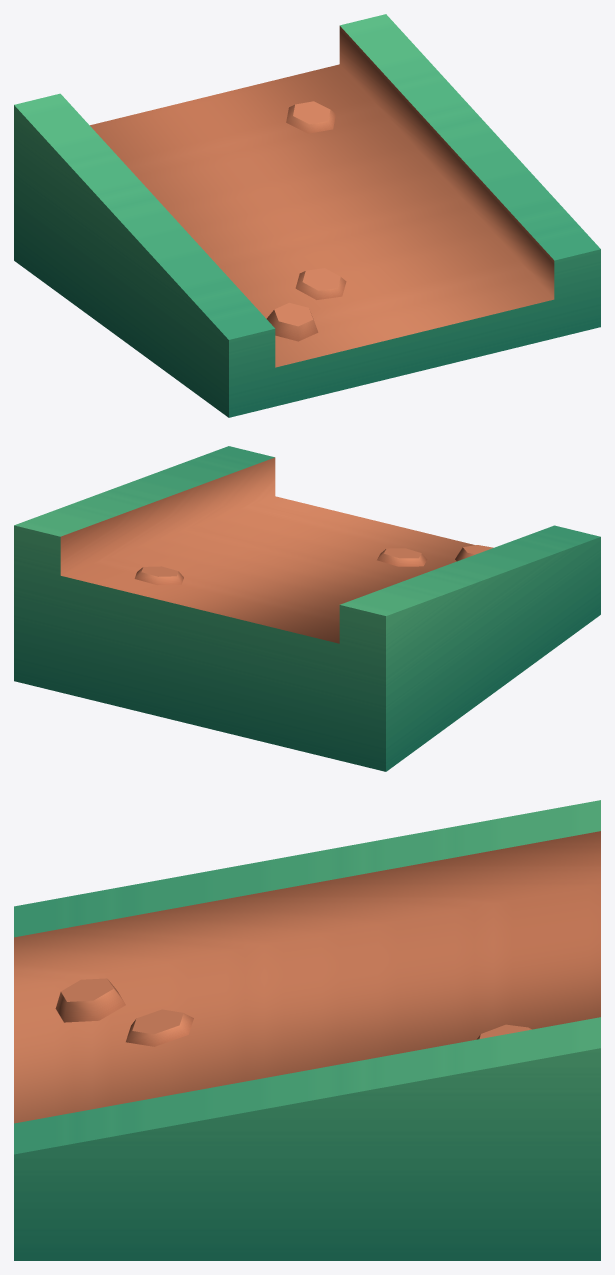
The model's file is tile-straight-slope.fbx.
3 views of the same model, one above another, from view 1: azimuth 30°, elevation 25°; view 2: azimuth 150°, elevation 25°; view 3: azimuth 270°, elevation 25° (orthographic). The views are drawn at different scales.
Visible parts, largest first — view 1: tile-straight-slope; view 2: tile-straight-slope; view 3: tile-straight-slope.
Part boxes in pixels (x1=…): tile-straight-slope: x1=14, y1=14, x2=600, y2=417; tile-straight-slope: x1=14, y1=446, x2=600, y2=771; tile-straight-slope: x1=14, y1=800, x2=600, y2=1260.
Bounding box in the file's own units: 100 × 40 × 100.
